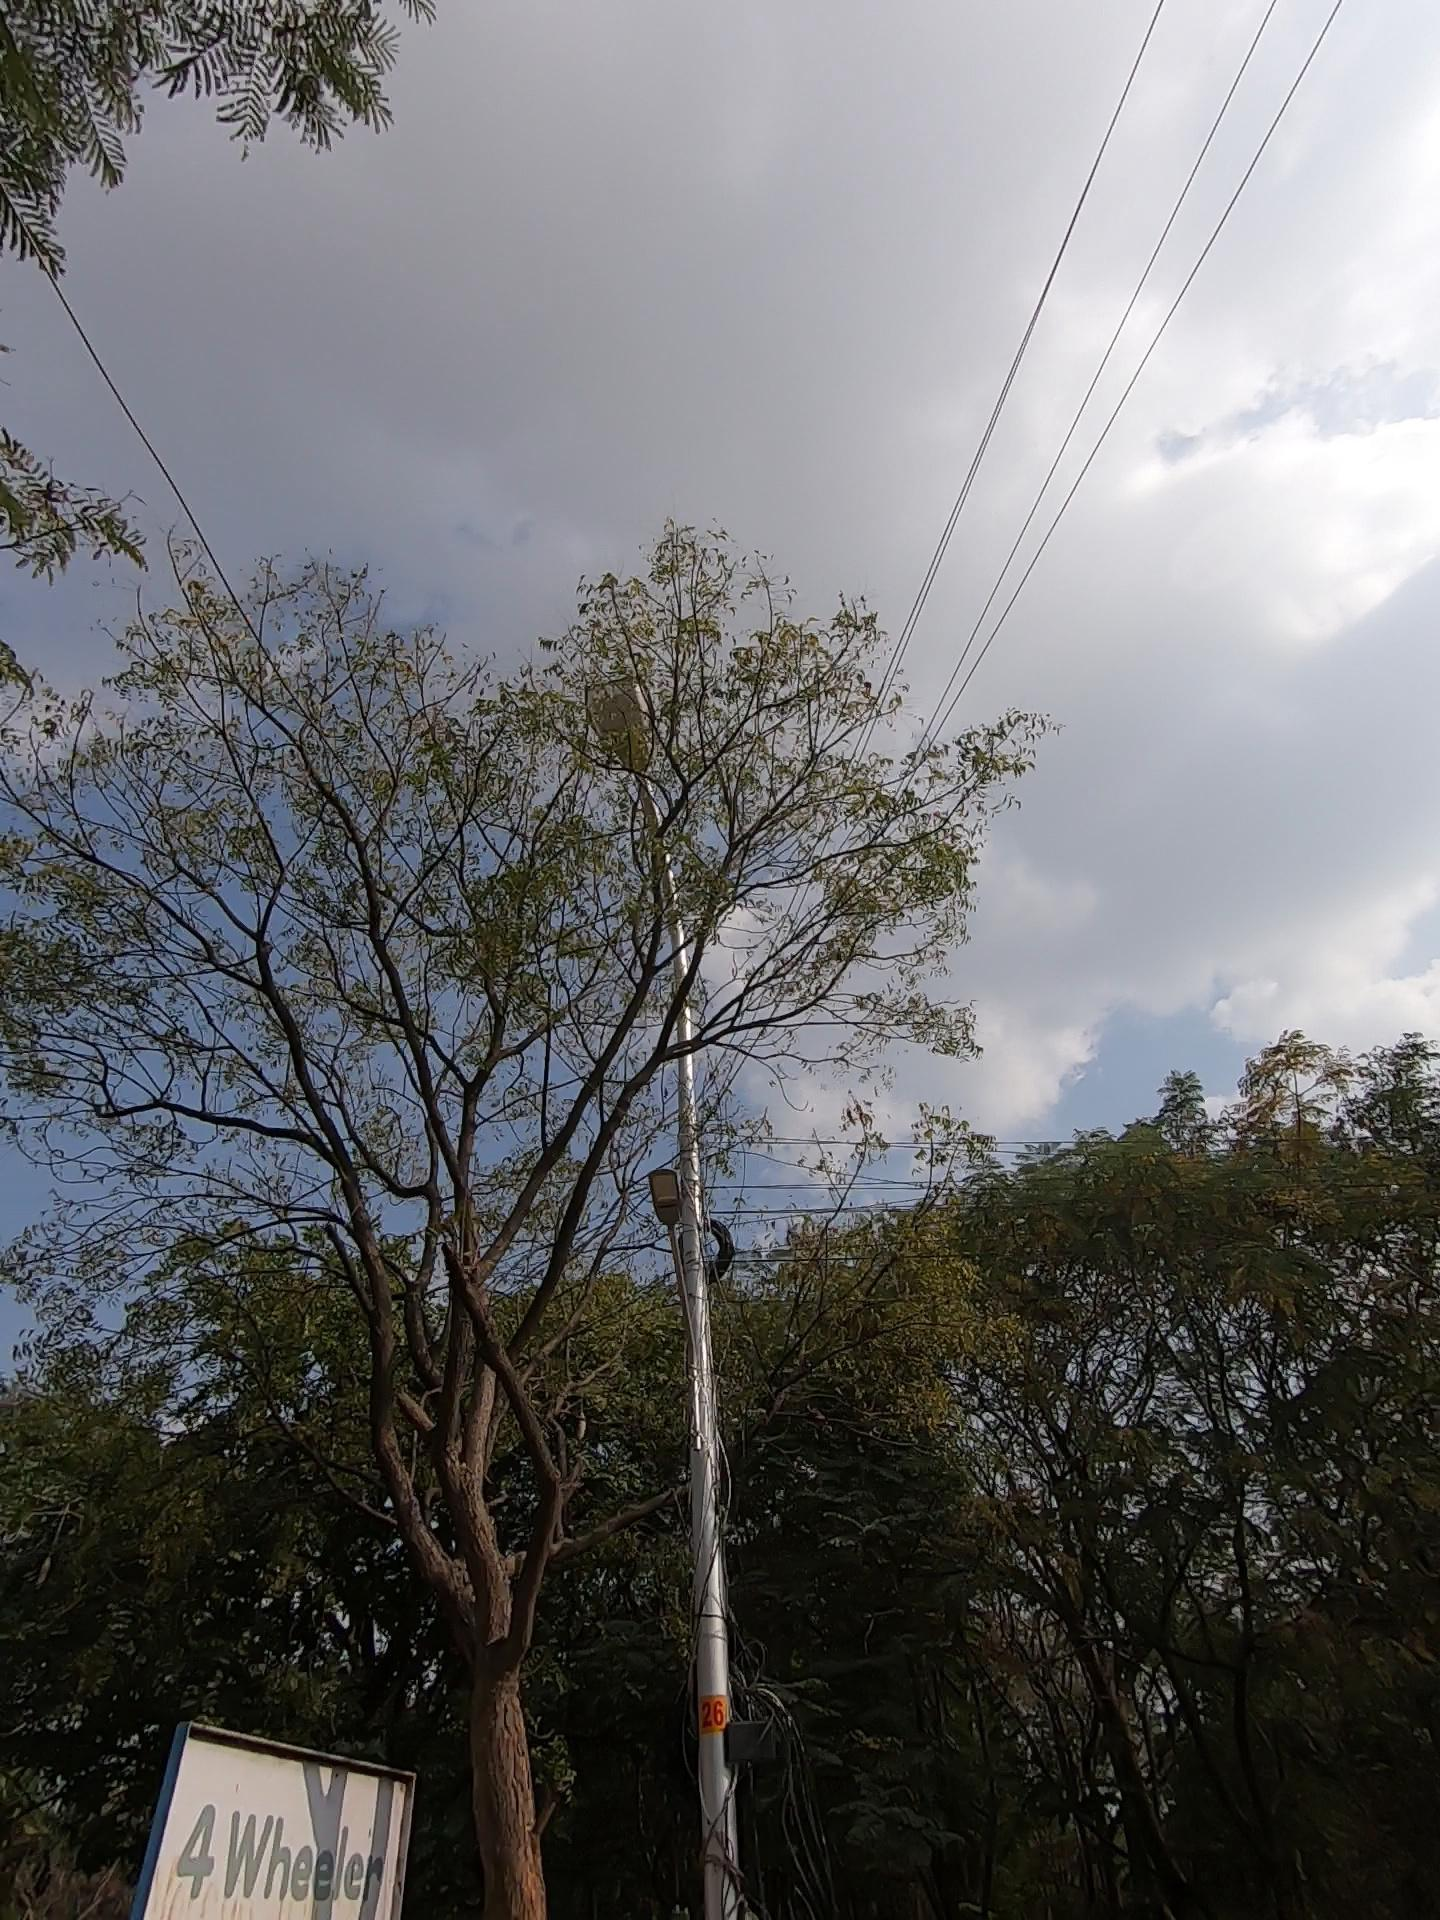off: (579, 511, 791, 1264)
